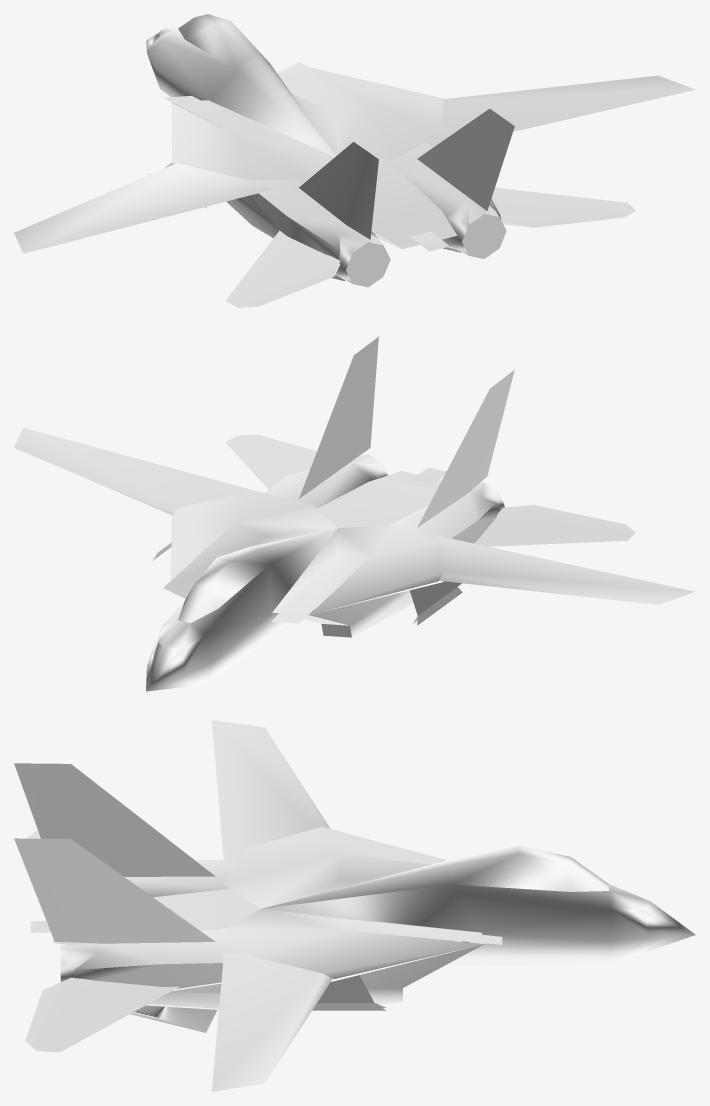
File: icon1.ico.obj
3 renders of one model, top to bottom at view 1: azimuth 30°, elevation 25°; view 2: azimuth 150°, elevation 25°; view 3: azimuth 270°, elevation 25°, orthographic. The views are drawn at different scales.
Bounding box in the file's own units: 4.85 × 1.22 × 3.76.
1 material, 1 textured.
